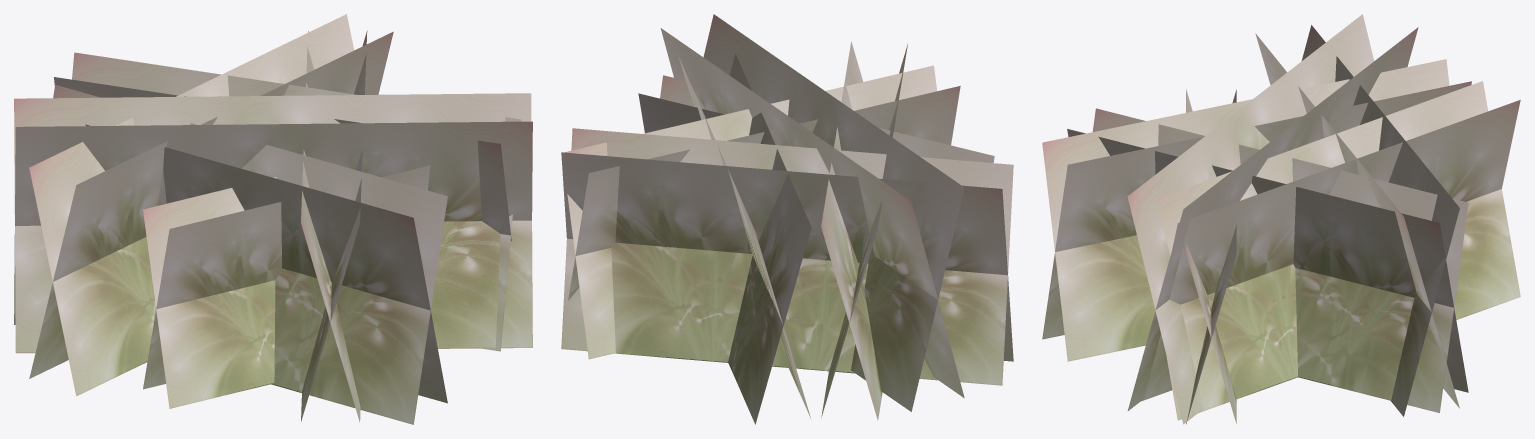
File: Sedge.FBX
3 renders of one model, left to right at view 1: azimuth 30°, elevation 25°; view 2: azimuth 150°, elevation 25°; view 3: azimuth 270°, elevation 25°, orthographic. The views are drawn at different scales.
Visible parts, largest first — view 1: Grass; view 2: Grass; view 3: Grass.
Boxes of the visible parts, x1,y1,x2,y2 form: Grass: [14, 14, 532, 424]; Grass: [561, 14, 1013, 424]; Grass: [1042, 14, 1520, 424].
Size of the model in its own units: 2.34 by 2.34 by 1.18.
